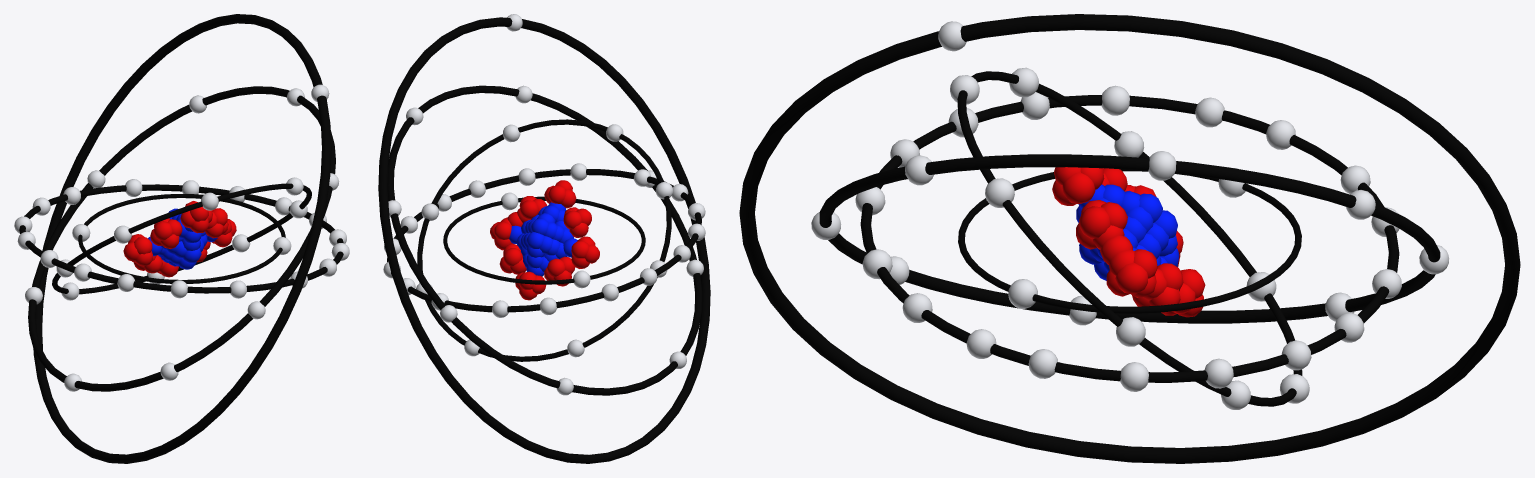
Rendered from 41 Niobio.fbx.
The picture shows the model from 3 angles, left to right: view 1: azimuth 30°, elevation 25°; view 2: azimuth 150°, elevation 25°; view 3: azimuth 270°, elevation 25°; orthographic projection. The views are drawn at different scales.
Parts seen in each view (by area): view 1: Orbita.005, Orbita.004, Sphere.013, Orbita.003, Orbita.002, Orbita.001; view 2: Orbita.005, Sphere.013, Orbita.004, Orbita.002, Orbita.003, Orbita.001; view 3: Orbita.005, Orbita.004, Sphere.013, Orbita.003, Orbita.002, Orbita.001.
Part boxes in pixels (box(x1,y1,x2,y2)): Orbita.005: box(33, 14, 331, 463); Orbita.004: box(28, 86, 335, 391); Sphere.013: box(123, 201, 236, 277); Orbita.003: box(19, 184, 343, 293); Orbita.002: box(52, 183, 311, 294); Orbita.001: box(78, 194, 285, 283); Orbita.005: box(378, 17, 710, 463); Sphere.013: box(490, 180, 599, 300); Orbita.004: box(387, 85, 702, 395); Orbita.002: box(417, 119, 671, 361); Orbita.003: box(387, 169, 701, 312); Orbita.001: box(443, 196, 645, 284); Orbita.005: box(739, 14, 1520, 463); Orbita.004: box(819, 154, 1440, 323); Sphere.013: box(1052, 167, 1205, 317); Orbita.003: box(860, 95, 1399, 382); Orbita.002: box(957, 71, 1302, 406); Orbita.001: box(958, 169, 1301, 313).
Size of the model in its own units: 17.58 by 12.48 by 15.2.
